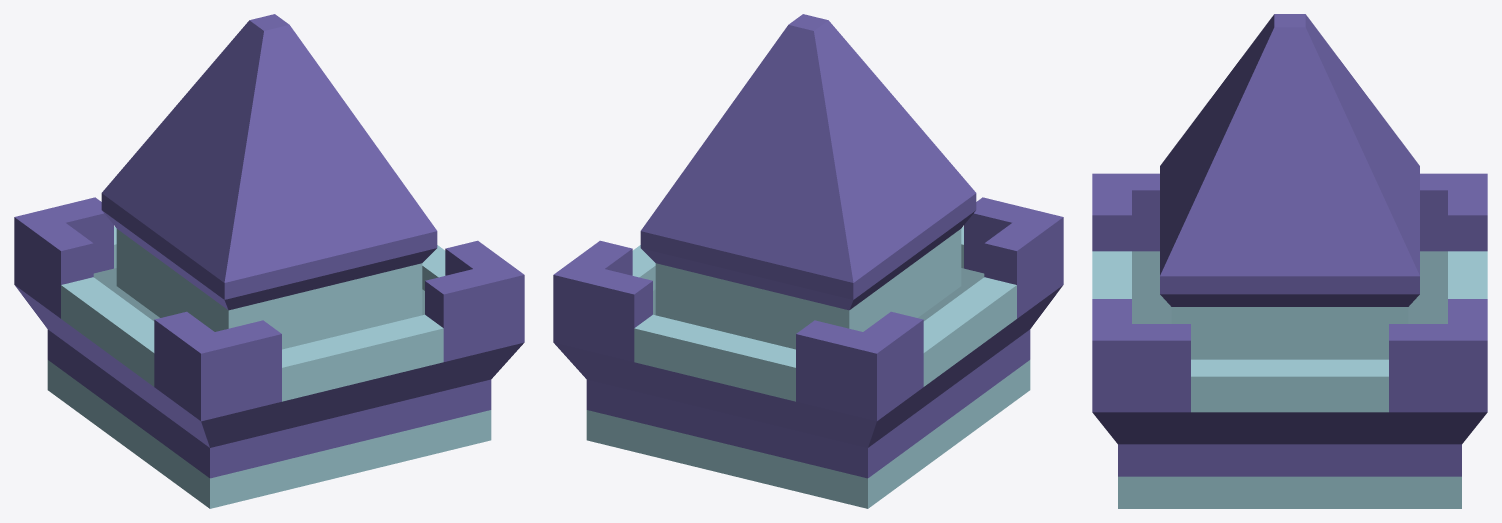
Rendered from towerSquare_roofB.dae.
3 renders of one model, left to right at view 1: azimuth 30°, elevation 25°; view 2: azimuth 150°, elevation 25°; view 3: azimuth 270°, elevation 25°, orthographic. The views are drawn at different scales.
Parts seen in each view (by area): view 1: towerSquare_roofB; view 2: towerSquare_roofB; view 3: towerSquare_roofB.
Part boxes in pixels (x1,y1,x2,y2): towerSquare_roofB: (14,14,524,508); towerSquare_roofB: (553,14,1063,508); towerSquare_roofB: (1092,14,1487,508).
Bounding box in the file's own units: 1 × 1.16 × 1.
